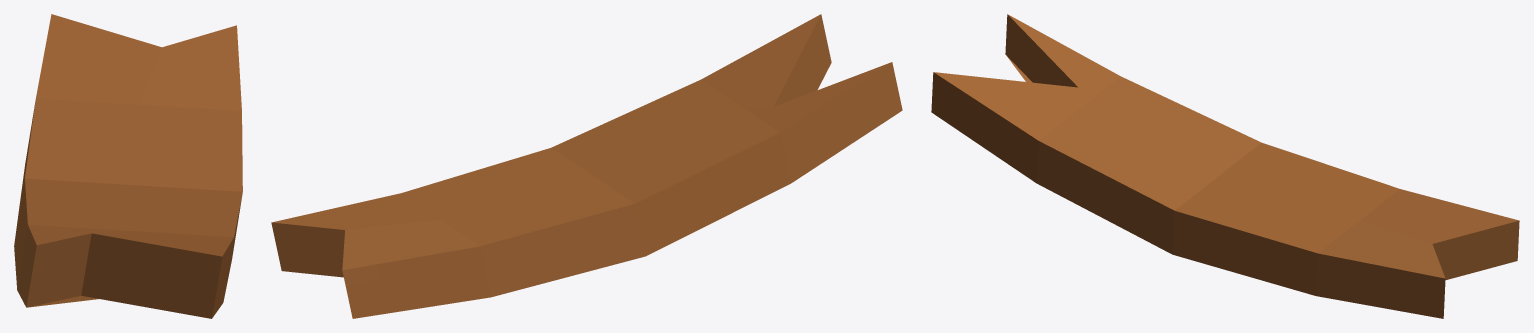
File: barrel-025.glb
3 views of the same model, side by side, from view 1: azimuth 30°, elevation 25°; view 2: azimuth 150°, elevation 25°; view 3: azimuth 270°, elevation 25° (orthographic). The views are drawn at different scales.
Parts seen in each view (by area): view 1: barrel.025; view 2: barrel.025; view 3: barrel.025.
Boxes of the visible parts, <box> form: barrel.025: <box>14,14,242,318</box>; barrel.025: <box>271,14,902,318</box>; barrel.025: <box>931,14,1519,318</box>.
Bounding box in the file's own units: 1.4 × 0.4709 × 1.87.
